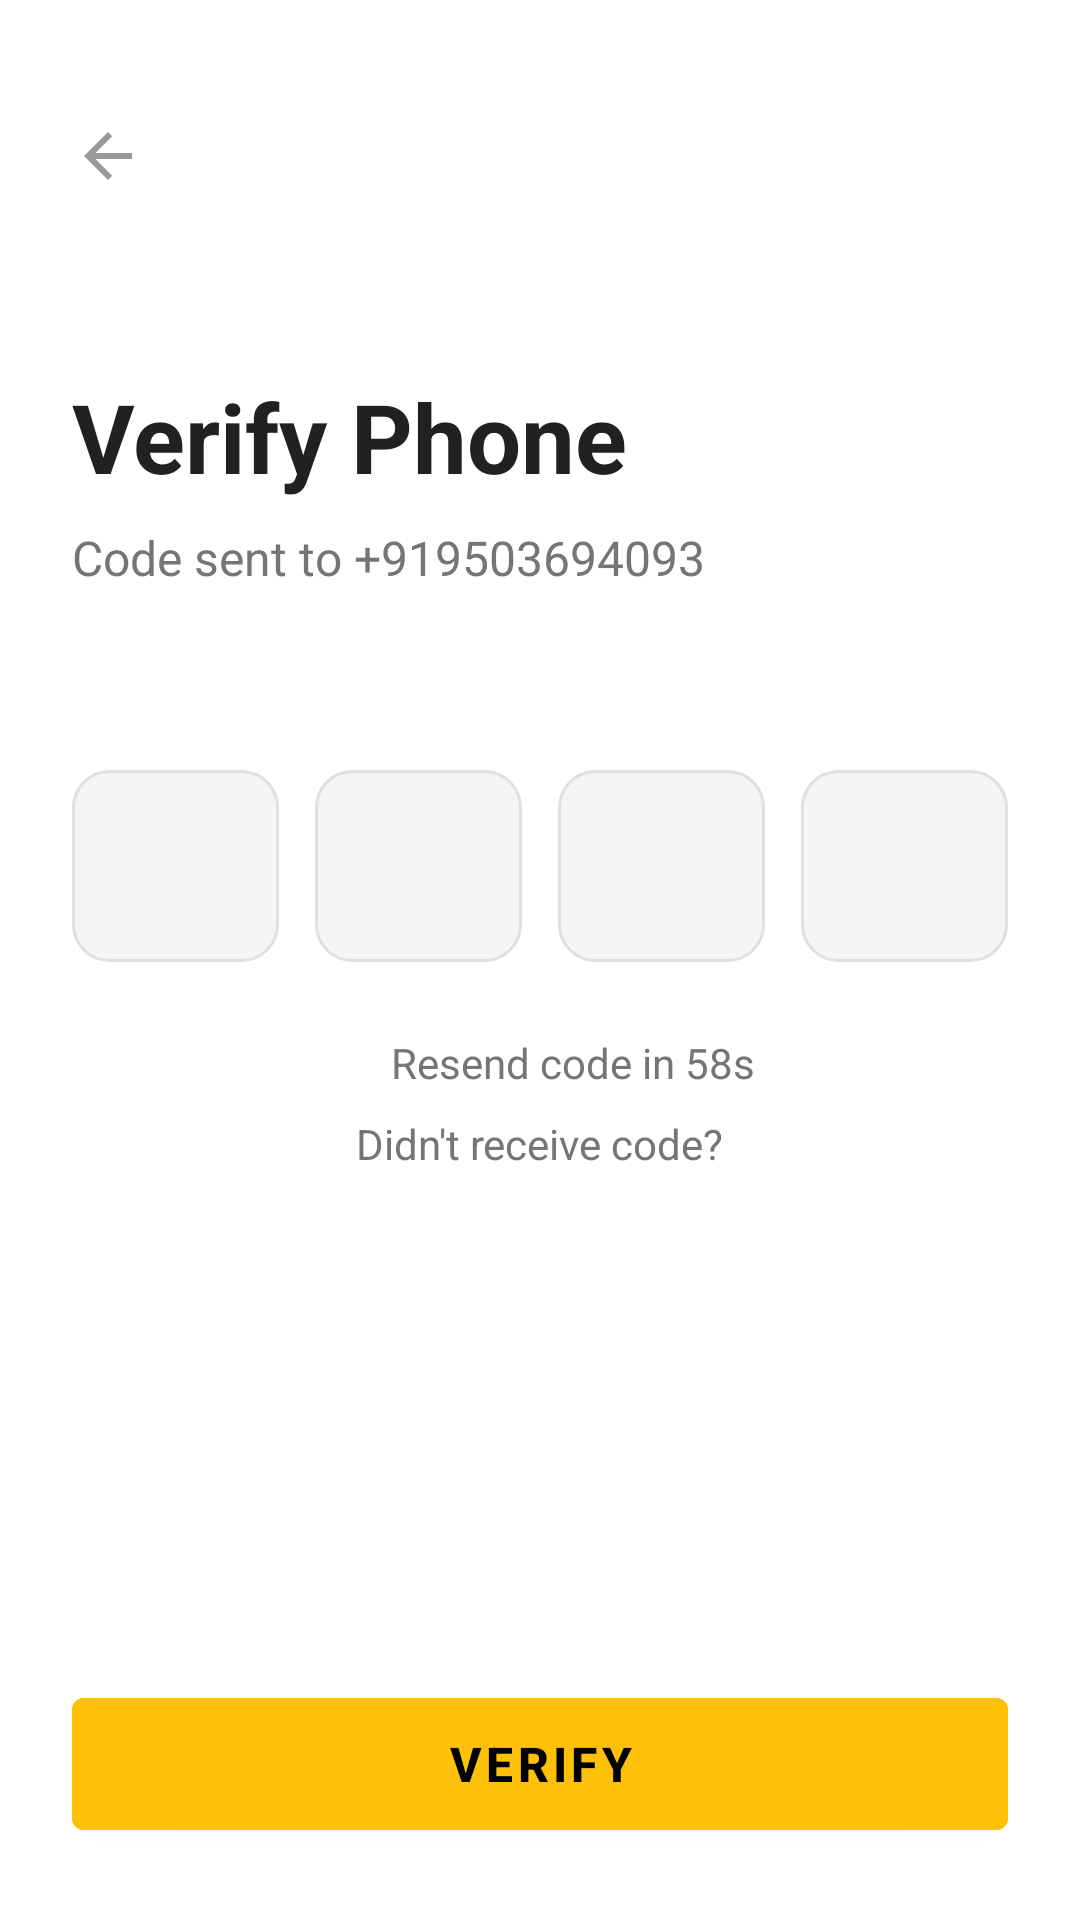

Icon click points for this 1080px x 1920px phone screenshot, format (x=x, y=y):
arrow back: (x=108, y=156)
